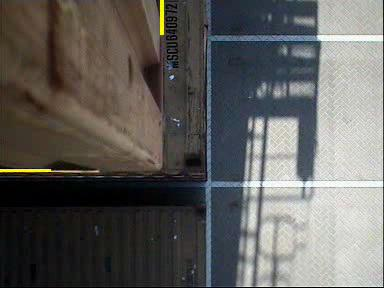groundmarker_2: (180, 1, 211, 44), (180, 175, 210, 218)
